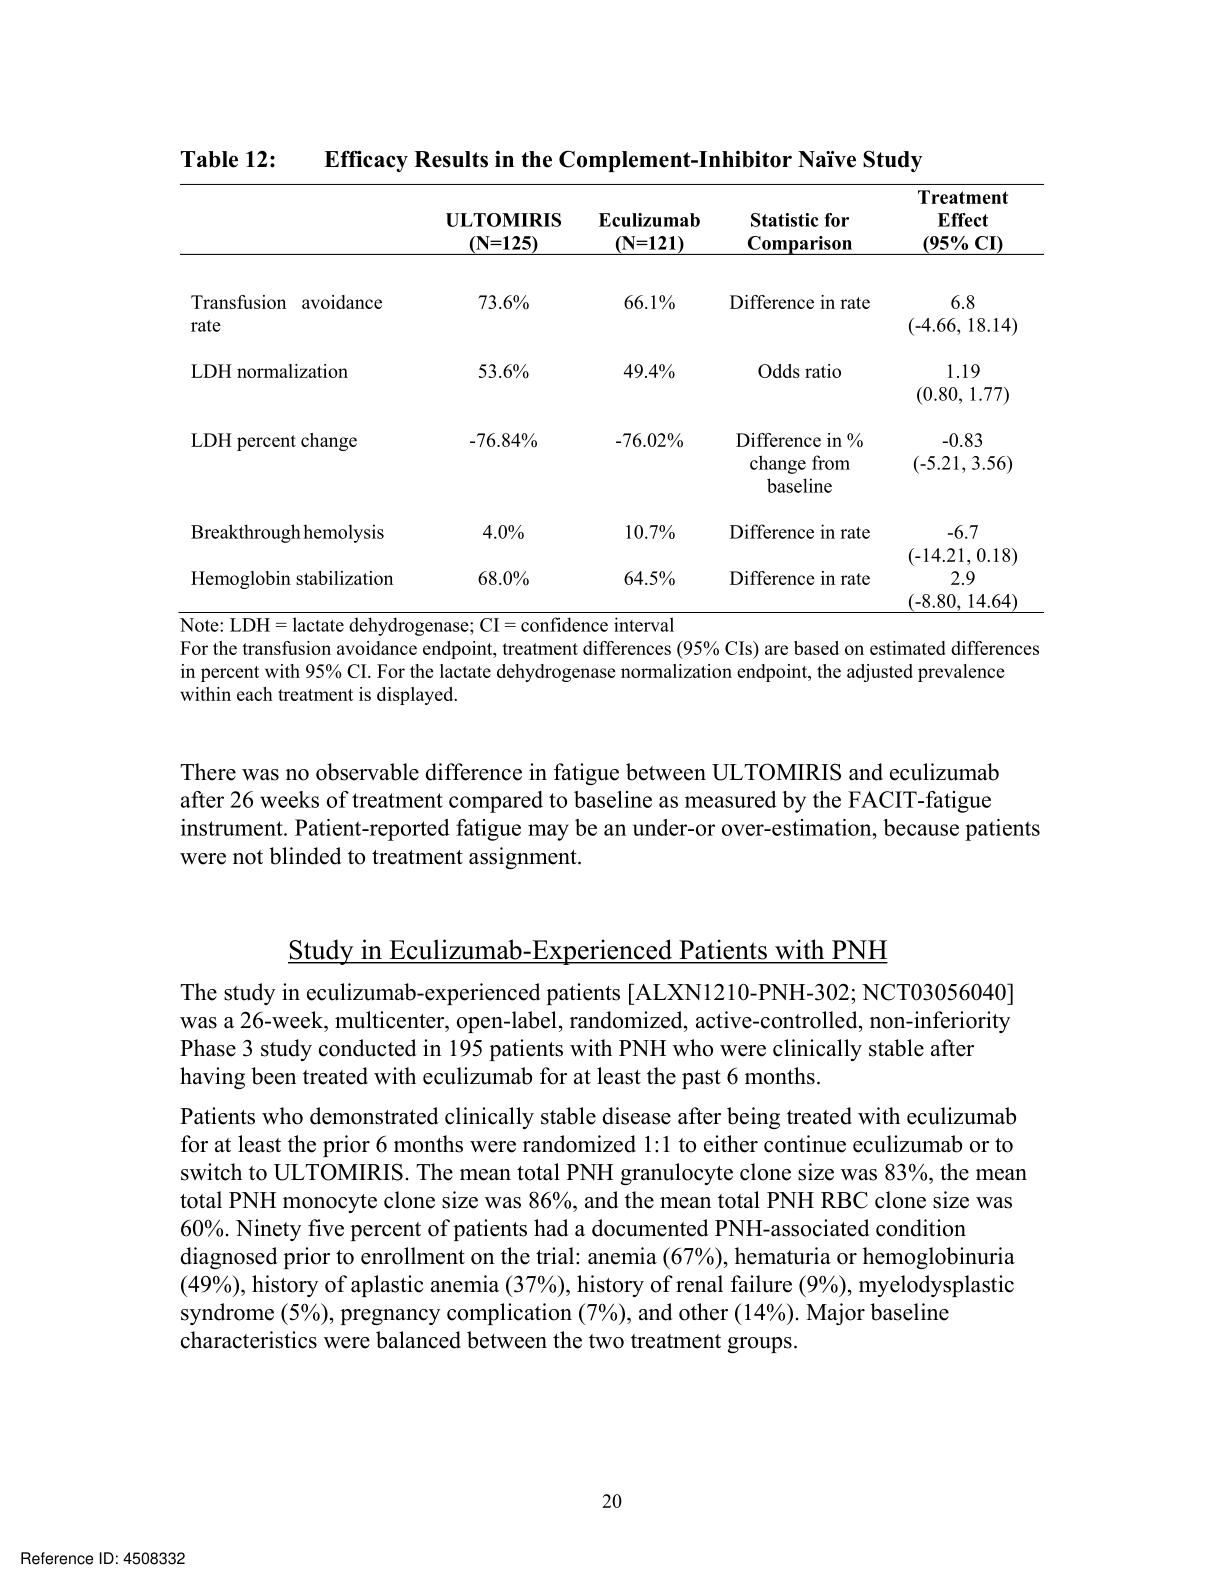partial_lined: (175, 183, 1047, 615)
